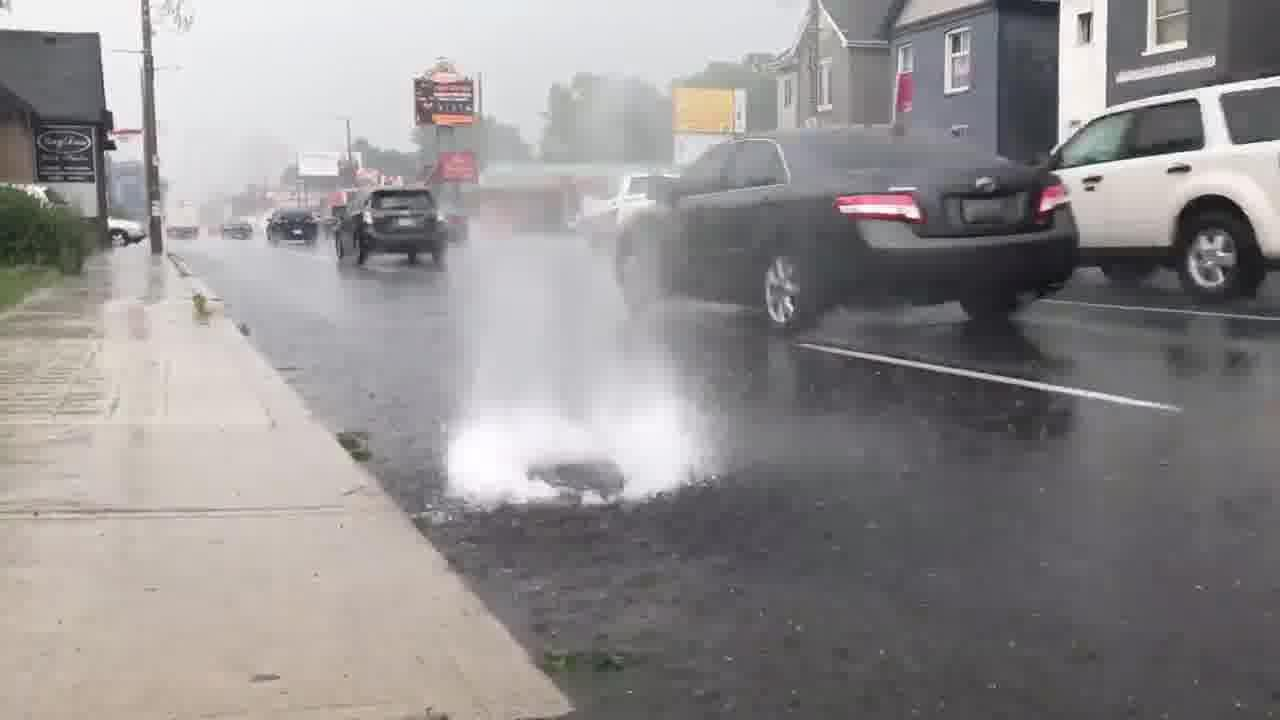drainage overflow-repair-: (373, 267, 708, 576)
